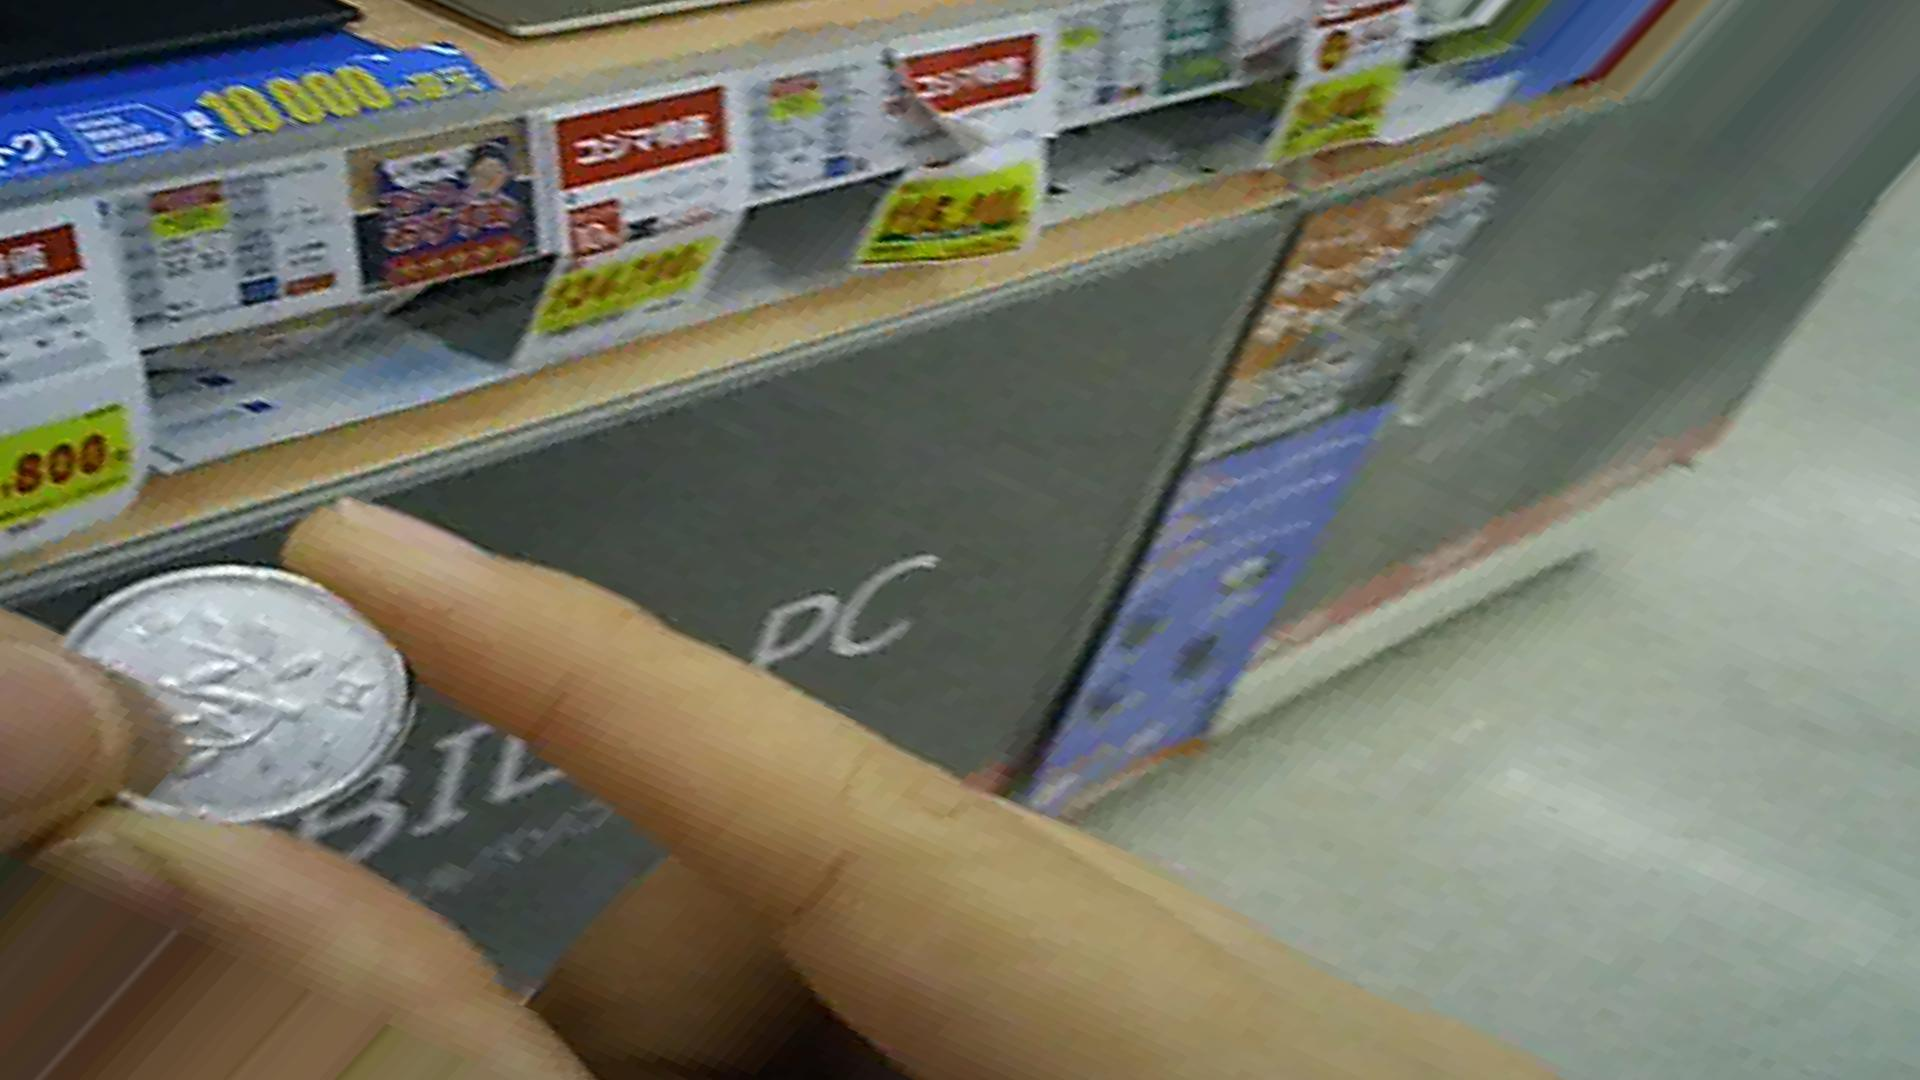1 Yen: (47, 571, 404, 828)
